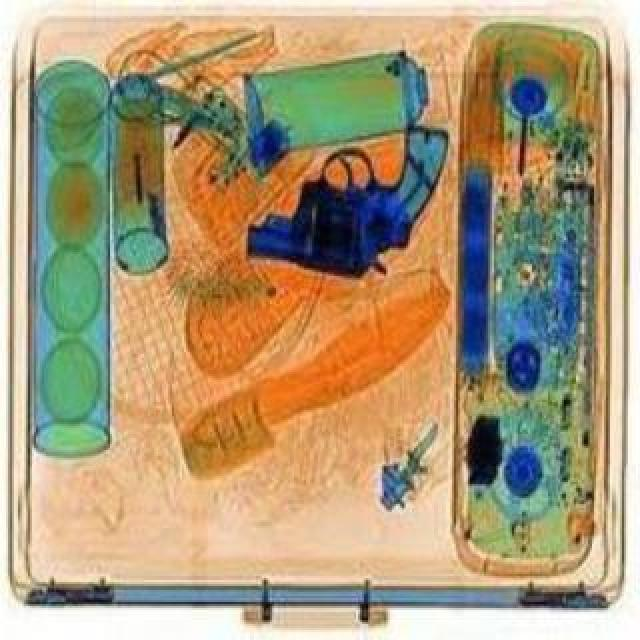gun: (238, 120, 450, 276)
